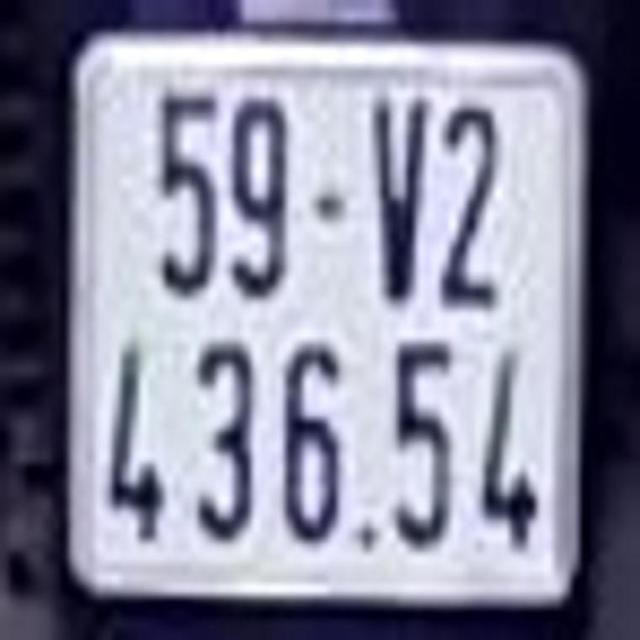2: (439, 103, 500, 311)
3: (192, 338, 256, 542)
4: (479, 343, 542, 554), (108, 348, 167, 545)
5: (390, 336, 454, 547), (159, 93, 219, 297)
6: (280, 336, 342, 544)
9: (229, 95, 289, 299)
V: (368, 96, 430, 304)
